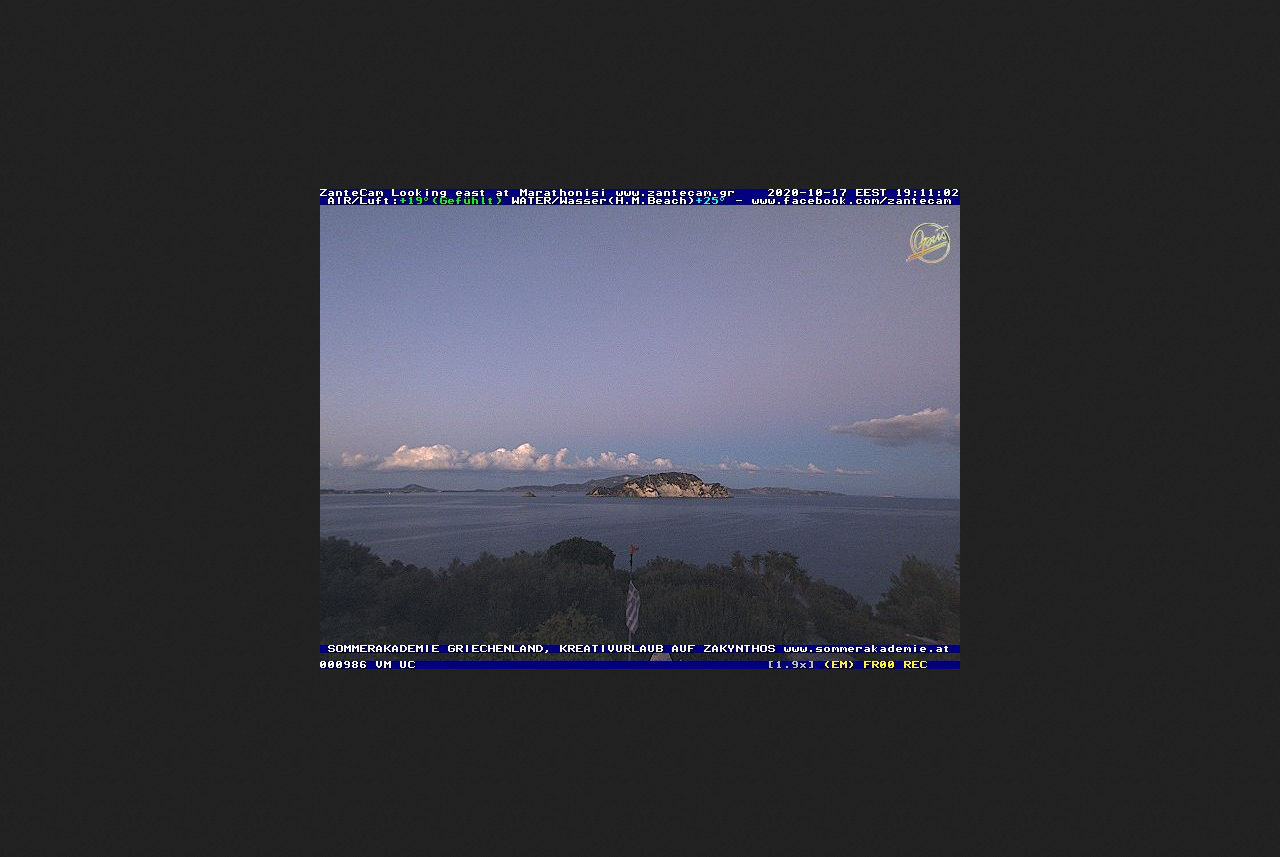no: (620, 575, 644, 636)
